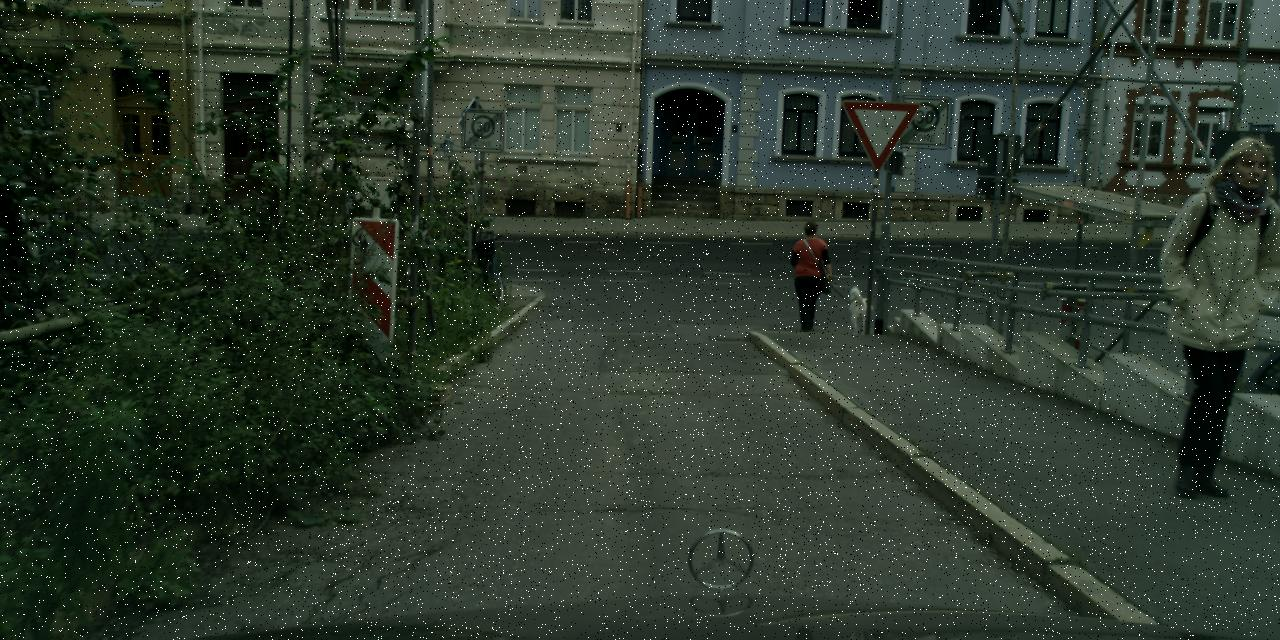ped: (1154, 140, 1278, 501), (787, 220, 832, 332)
